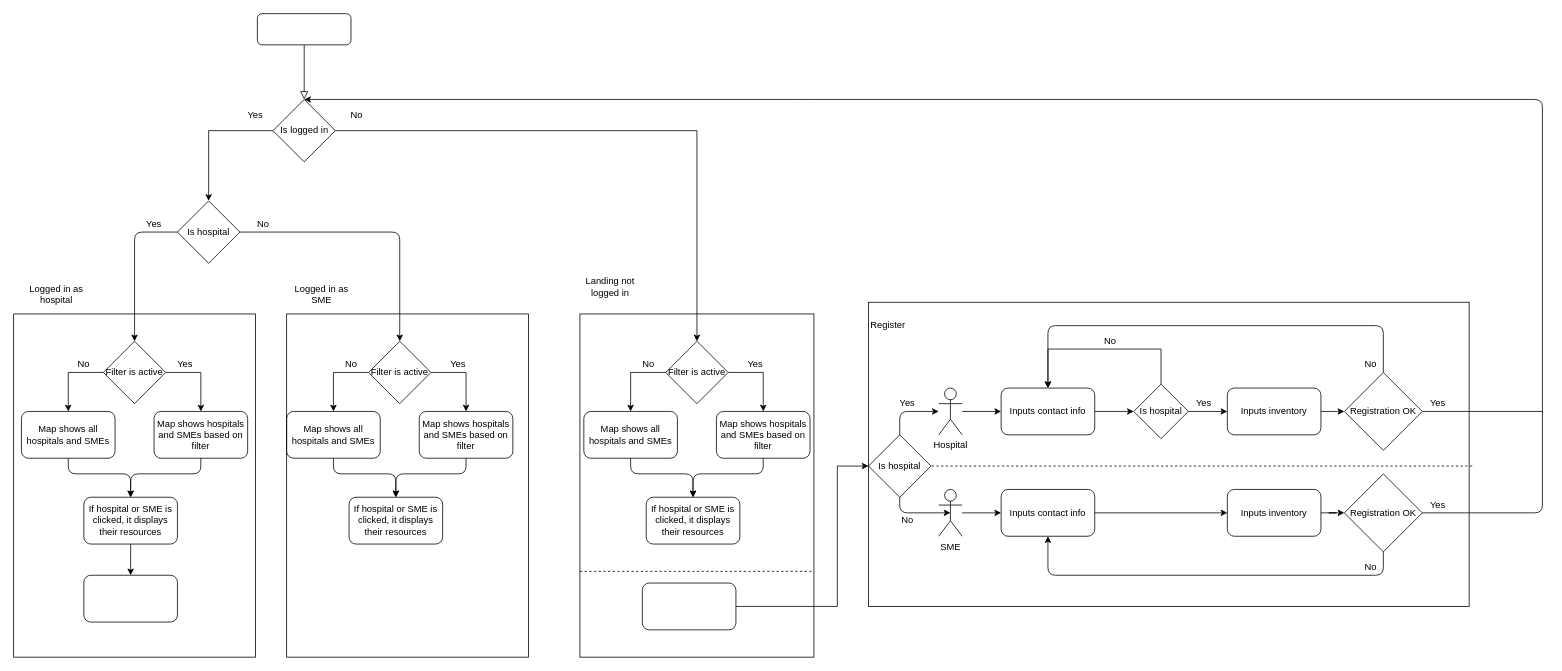
This 1562x671 diagram has some shape labels left out. The centre of each missing label's shape, as x and y in pixels:
"Clicks register" belongs at [689,606].
"Hospital gets recommended transactions based on their resources" belongs at [130,598].
"Start" belongs at [304,29].
